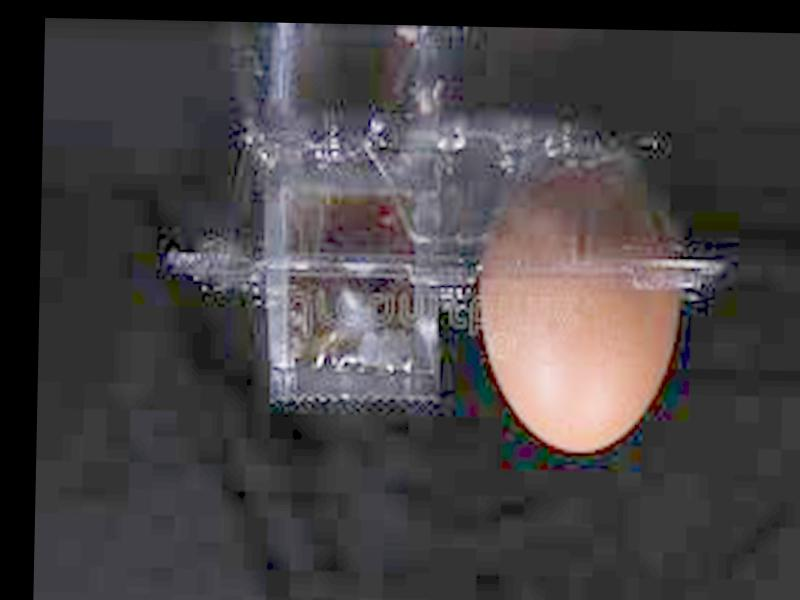Eggs: (479, 154, 685, 453)
